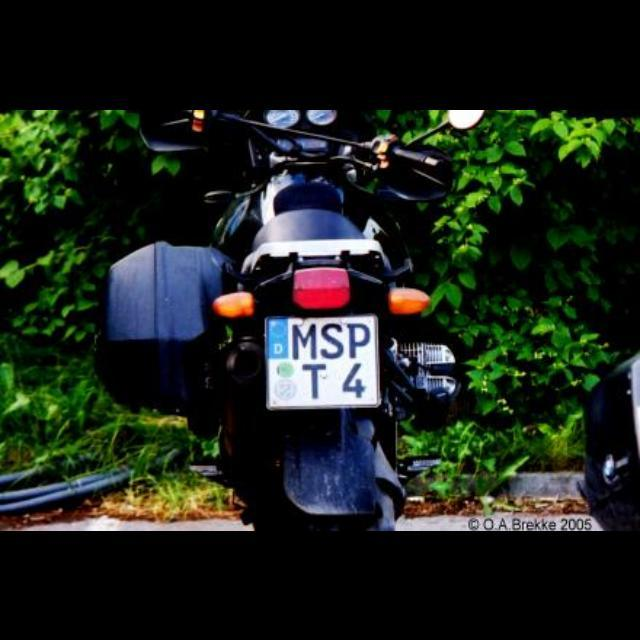license-plates: (266, 316, 380, 410)
